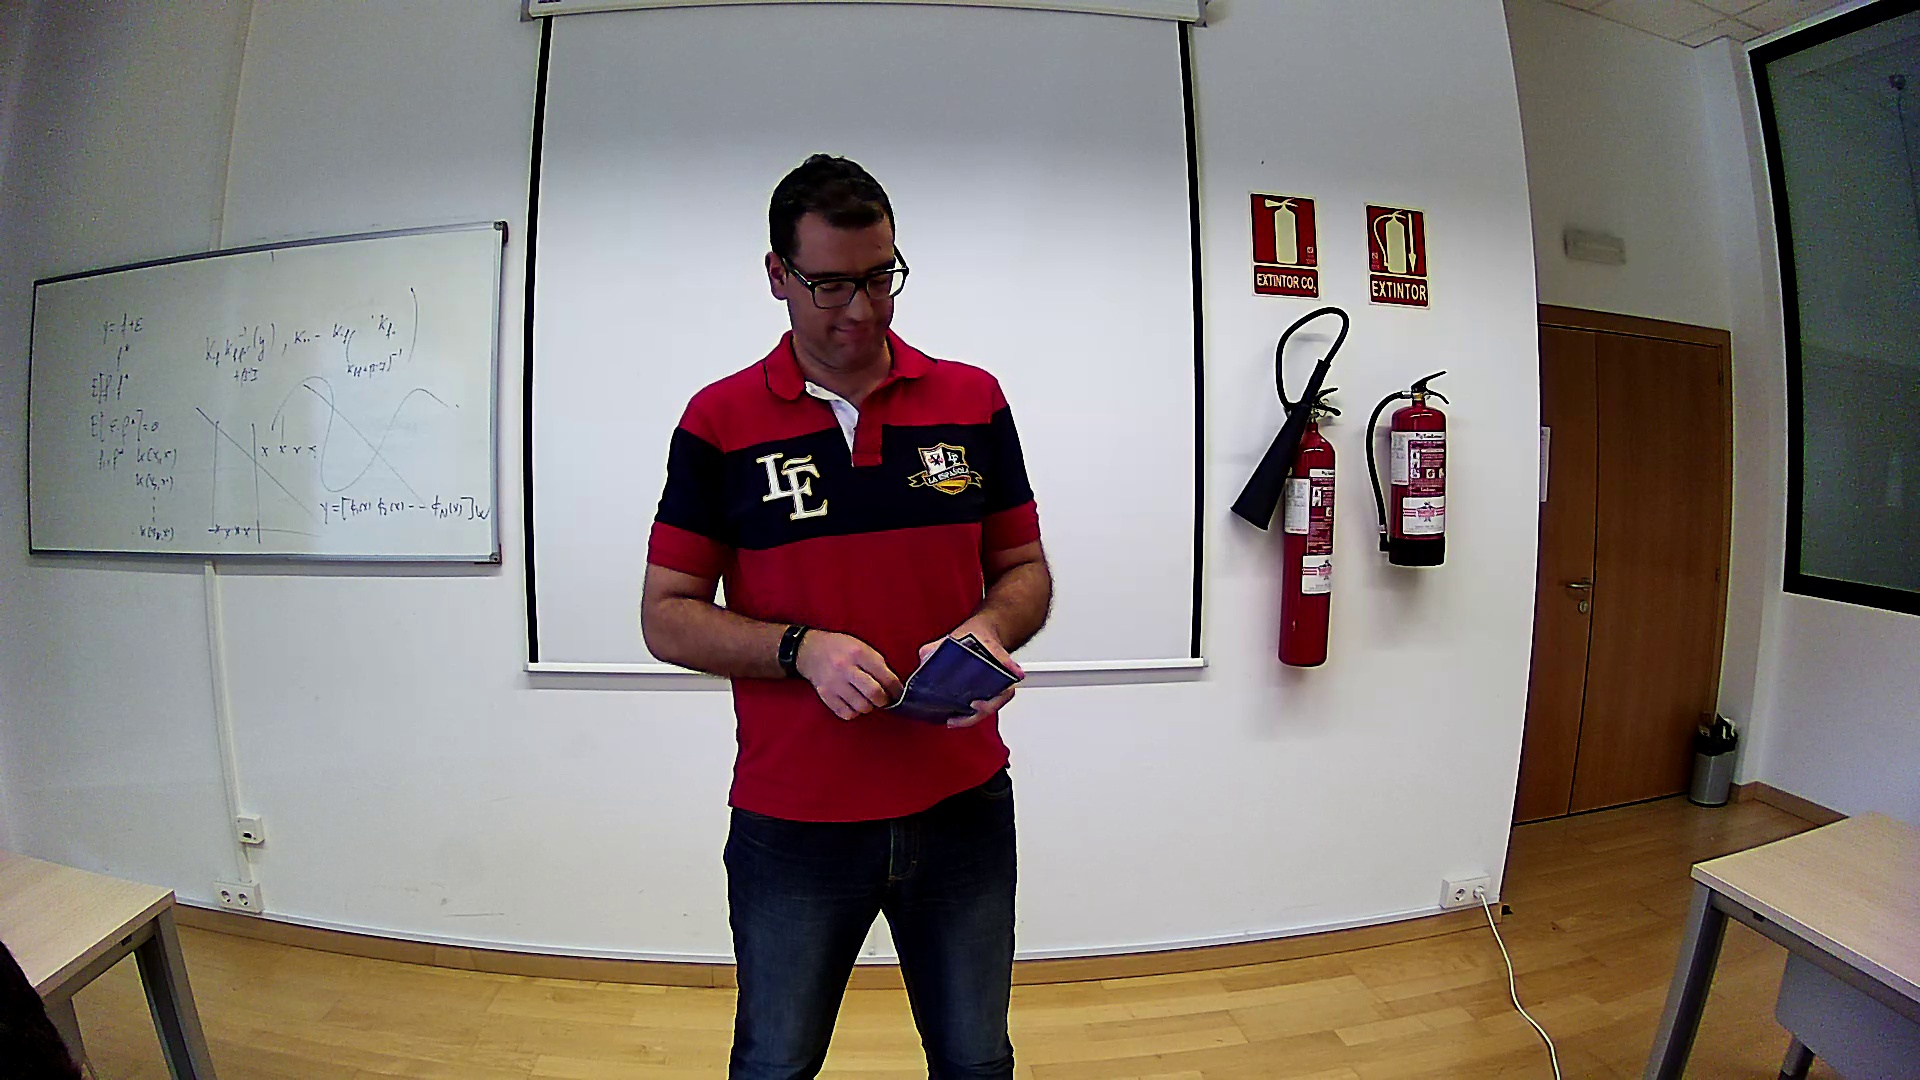monedero: (872, 632, 1022, 727)
